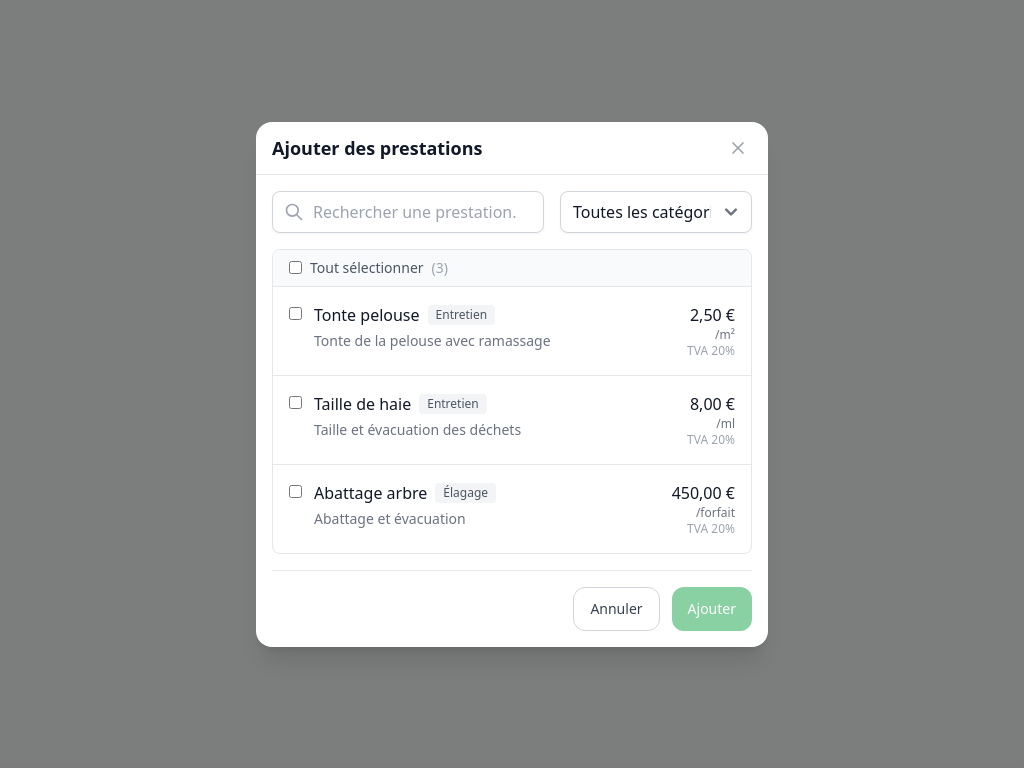
Test: TemplateSelector › allows selecting templates
Check: the text "Tonte pelouse" is shown, box [314,302,420,326]
Click the 2nd checkbox at (296, 313), box [289,306,302,320]
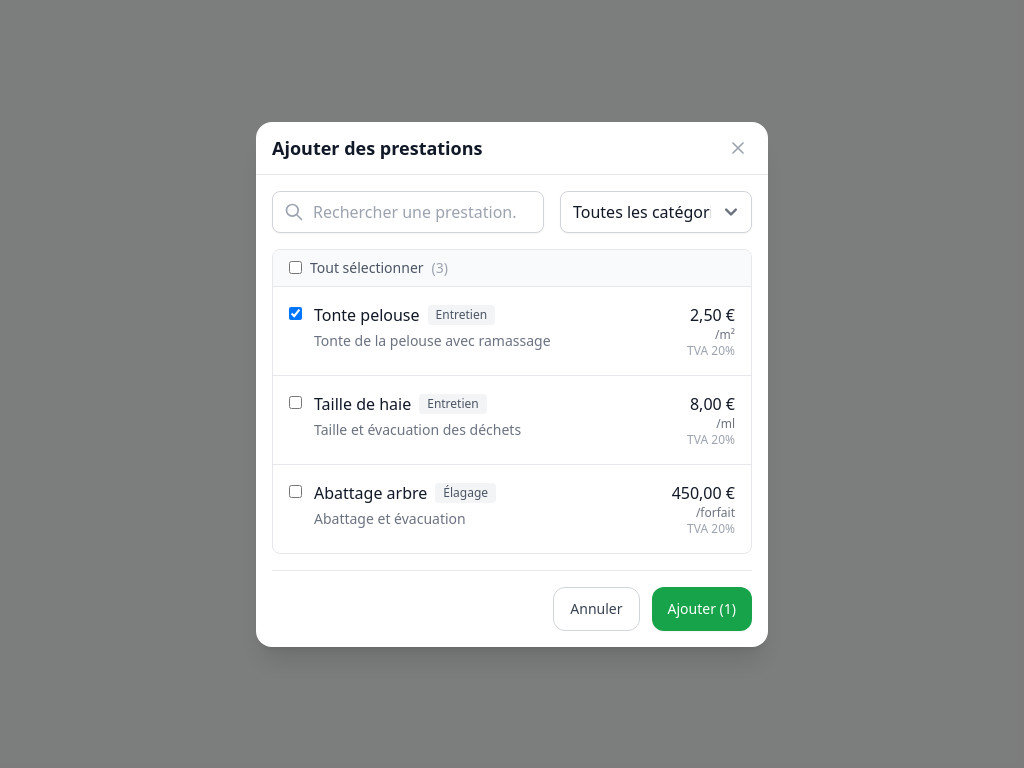
Check: the button "Ajouter (1)" is shown, box [652,586,752,630]
